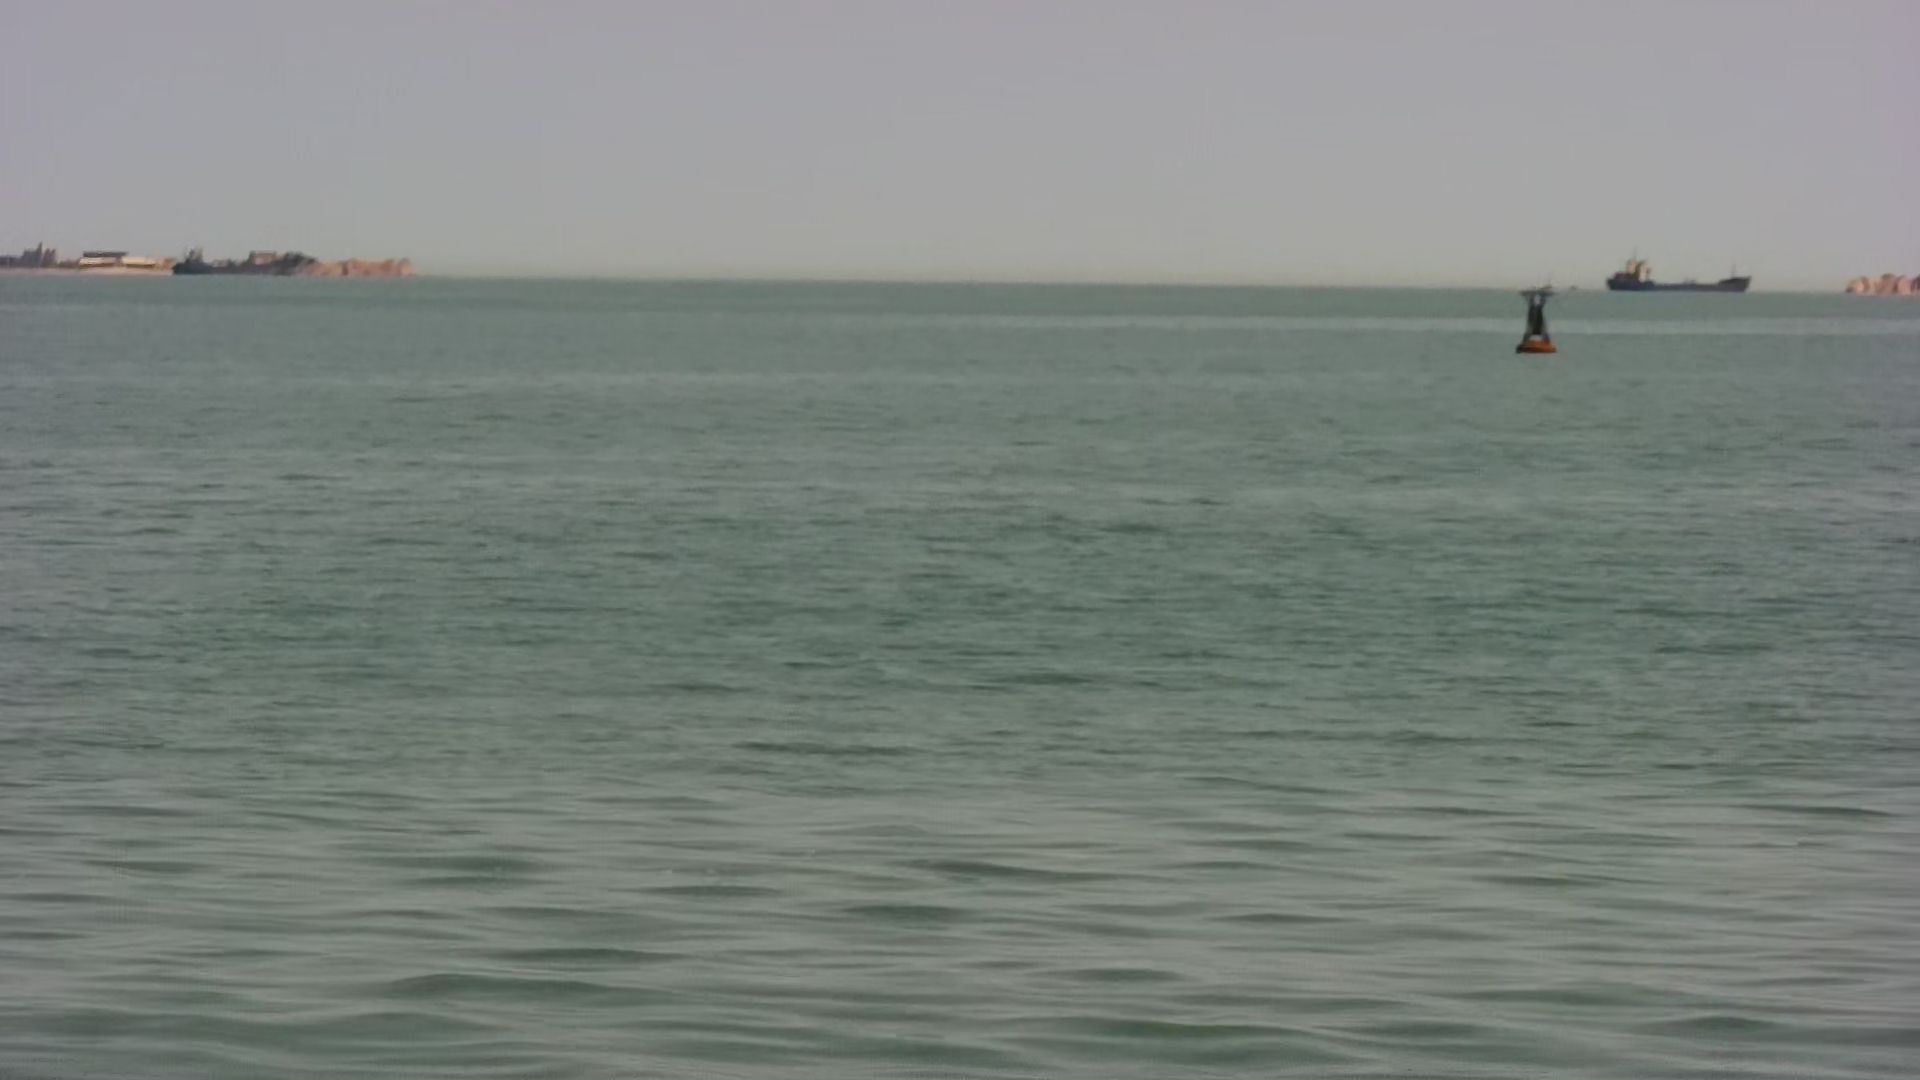buoy: (1509, 282, 1567, 356)
rock: (1, 241, 433, 282)
ship: (1606, 251, 1756, 298)
